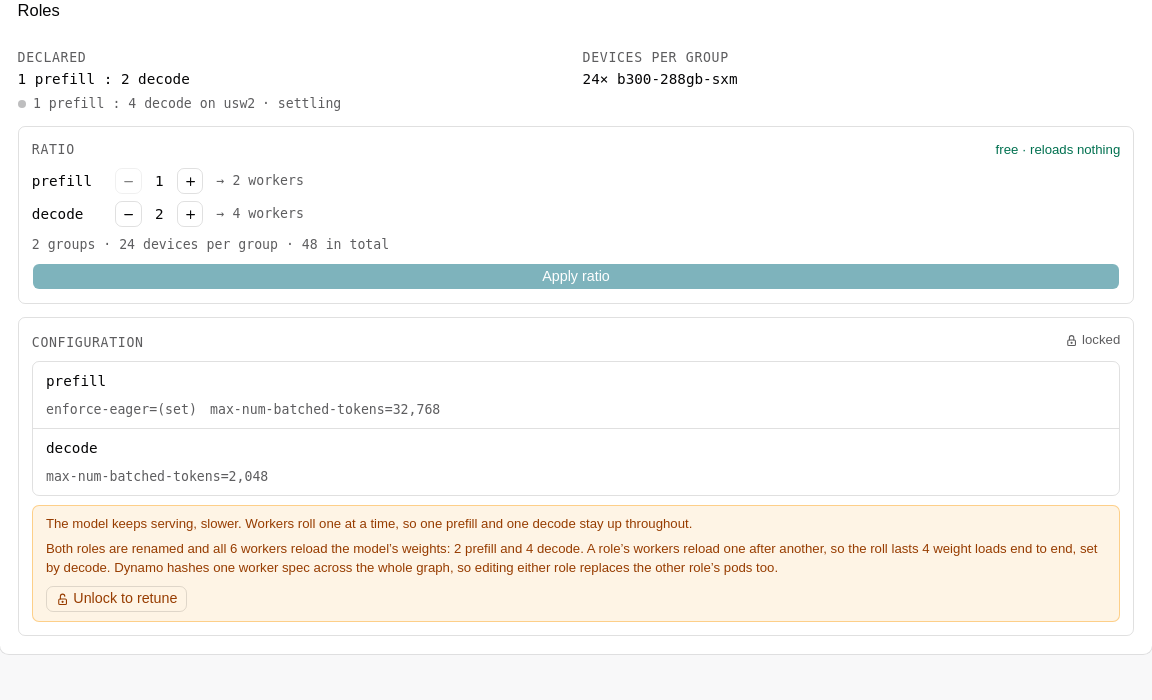
Scenario: the roles panel › reveals the fields only after the unlock, and puts the cost on the button
Click the button "Unlock to retune". click: (117, 599)
box: [46, 586, 187, 612]
(page scrolled)
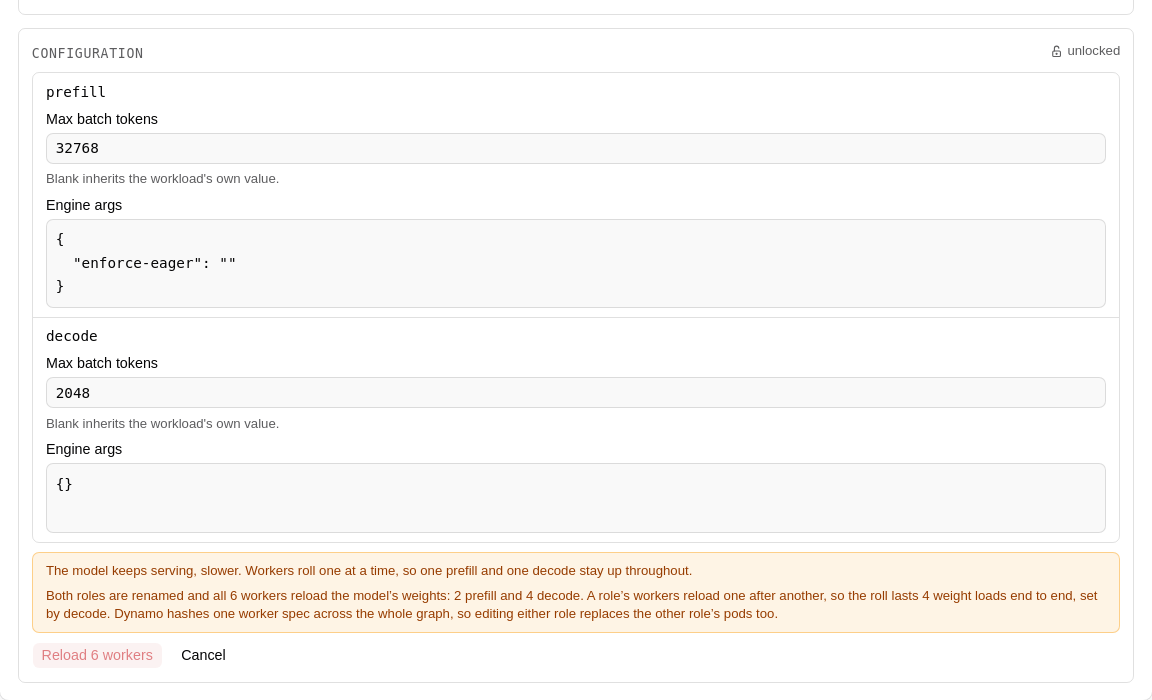
Now the text "unlocked" is shown, box [1050, 42, 1120, 61]
Now the number of number fields labelled "Max batch tokens" is 2, box [46, 133, 1106, 164]; [46, 377, 1106, 408]
Now the button "Reload 6 workers" is shown, box [32, 642, 163, 669]
